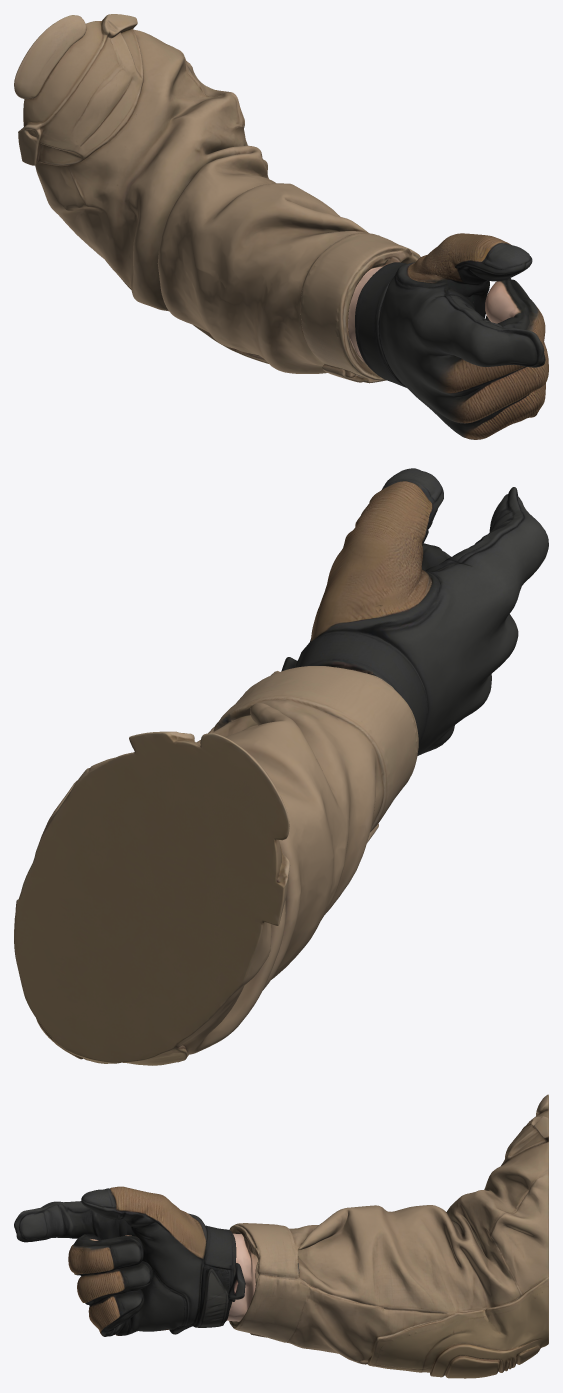
File: prop_handR-FRLAM7ZG.glb
The picture shows the model from 3 angles, top to bottom: view 1: azimuth 30°, elevation 25°; view 2: azimuth 150°, elevation 25°; view 3: azimuth 270°, elevation 25°; orthographic projection. The views are drawn at different scales.
Size of the model in its own units: 0.4073 by 0.4812 by 1.
1 material, 1 textured.
